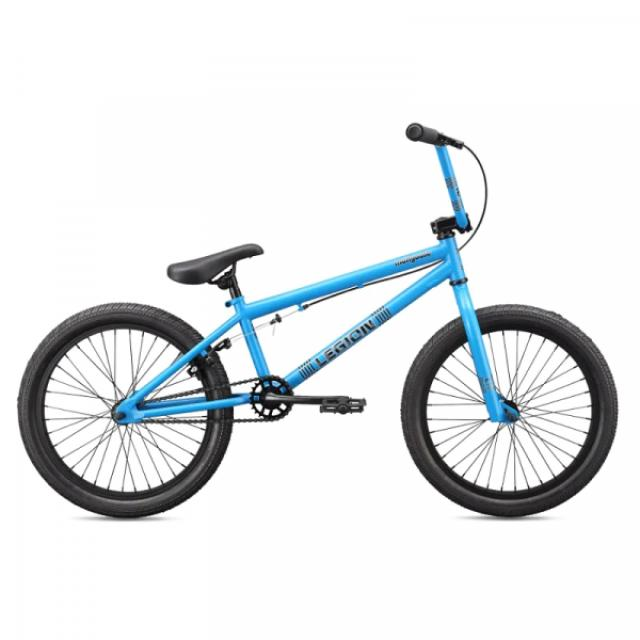bmx-bike: (17, 120, 623, 524)
